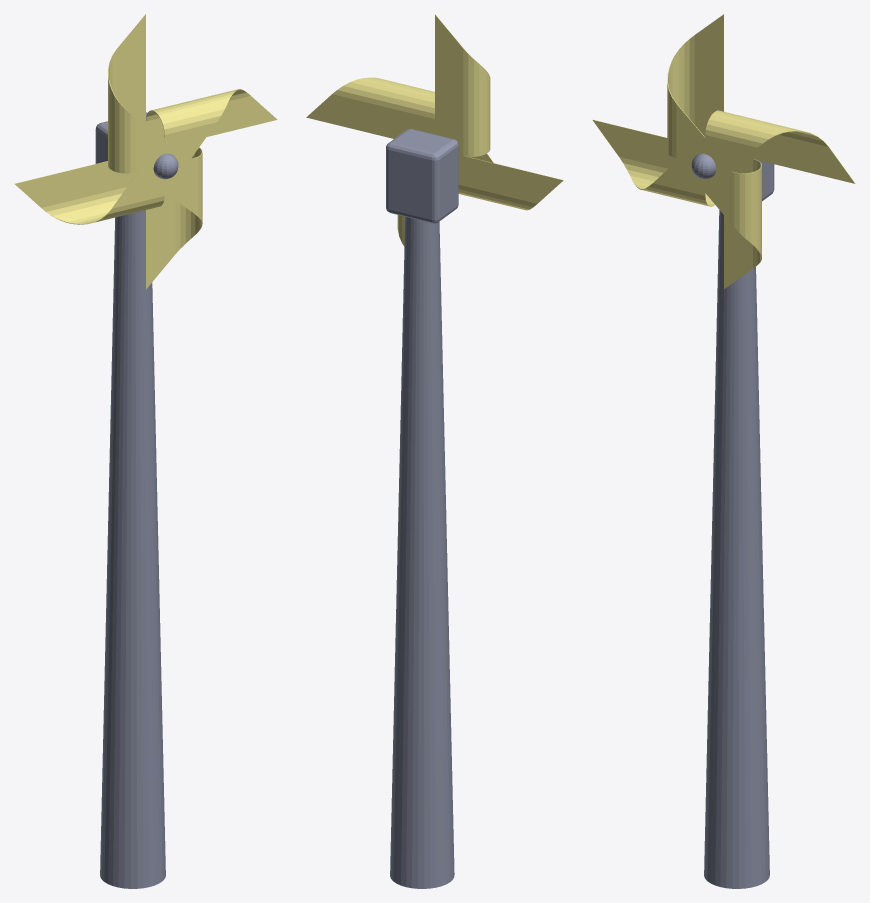
File: Windmill.fbx
3 views of the same model, side by side, from view 1: azimuth 30°, elevation 25°; view 2: azimuth 150°, elevation 25°; view 3: azimuth 330°, elevation 25° (orthographic). The views are drawn at different scales.
Parts seen in each view (by area): view 1: windmill.pole, windmill; view 2: windmill.pole, windmill; view 3: windmill.pole, windmill.
Boxes of the visible parts, left/top/right/bottom form: windmill.pole: left=95, top=112, right=178, bottom=888; windmill: left=14, top=14, right=277, bottom=289; windmill.pole: left=386, top=129, right=458, bottom=888; windmill: left=306, top=14, right=563, bottom=245; windmill.pole: left=691, top=153, right=774, bottom=888; windmill: left=592, top=14, right=855, bottom=289.
Size of the model in its own units: 512 by 1619 by 187.
